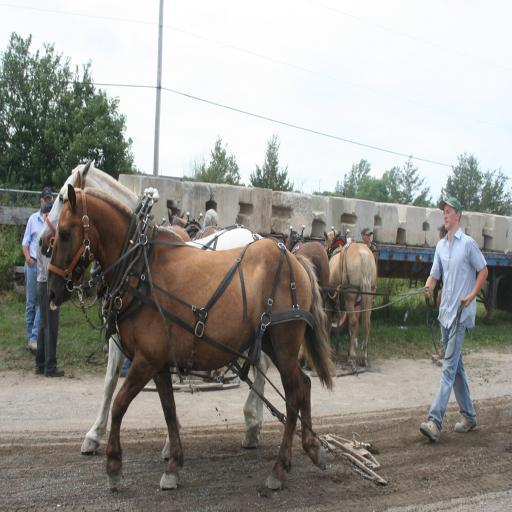horse: (36, 158, 378, 492)
